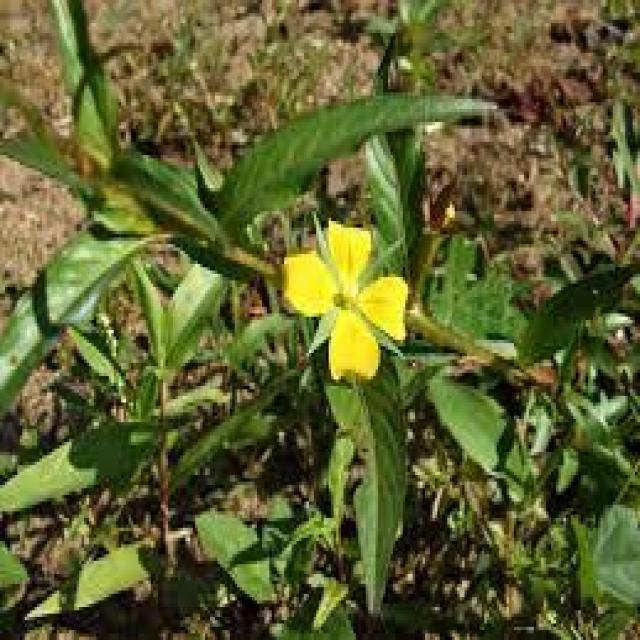organic waste: (287, 205, 420, 386)
